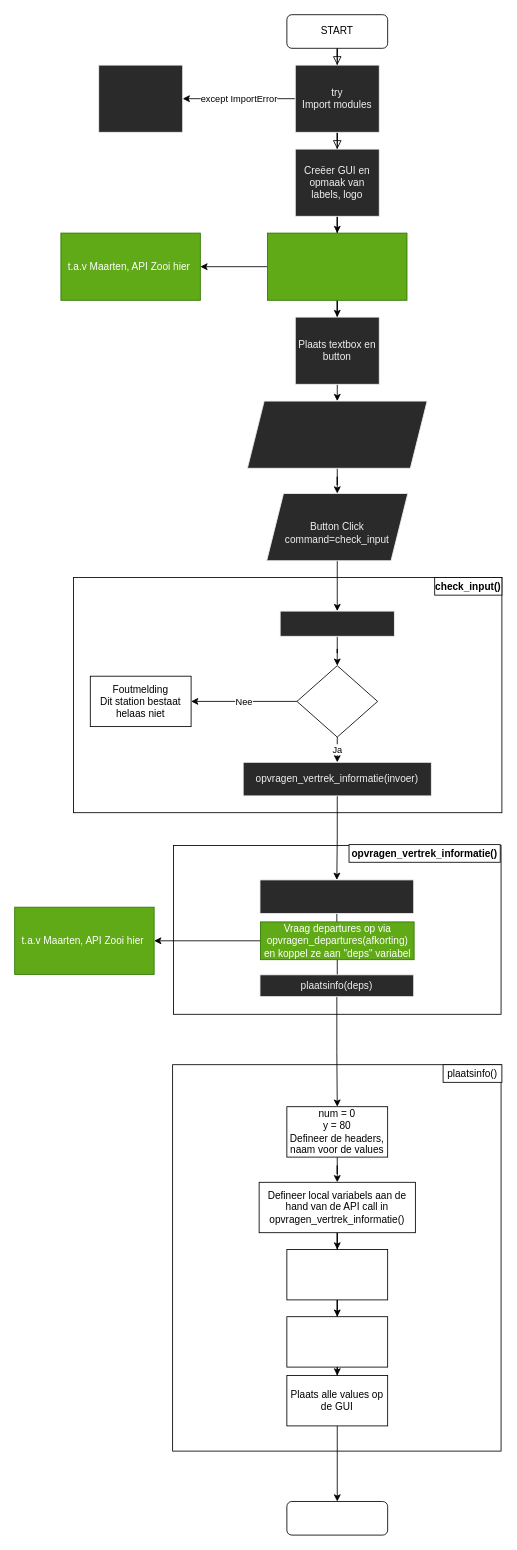
Some shapes in this 517 by 1550 pixel diagram are drawn without their labels. Each missing label, with the centre of its shape:
"EIND (output)" belongs at pixel 337 1518.
"Entry voor de Stationsnaam" belongs at pixel 337 434.
"Invoer in stationsdict?" belongs at pixel 337 701.
"invoer word global" belongs at pixel 336 623.
"Kan een of meerdere modules niet importeren" belongs at pixel 140 98.
"num += 1 Voor de loop door alle departures" belongs at pixel 337 1274.
"stationdict = {} Bevolk de stationdict met waardes uit opvragen_stationslijst()" belongs at pixel 337 266.
"Verander invoer (stationsnaam) naar afkorting van het station" belongs at pixel 336 896.
"y += 30 Voor de plaats van de departures op de GUI" belongs at pixel 337 1341.
